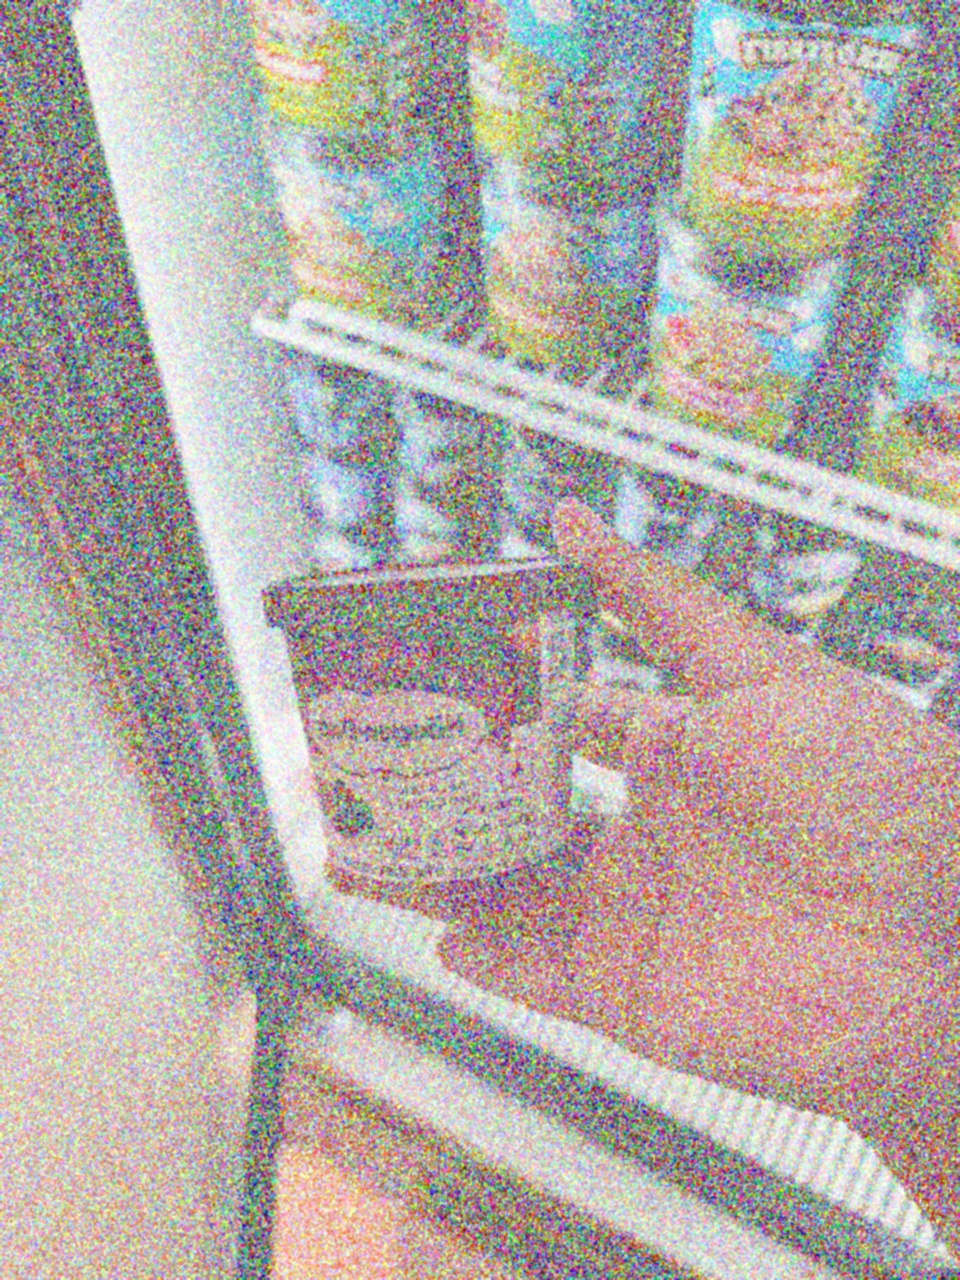Haagen-Dazs IceCream Tub: (252, 532, 596, 922)
